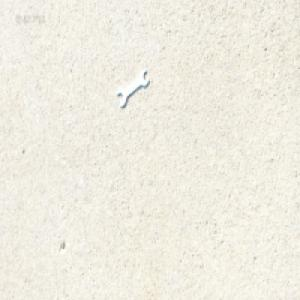Wrench: (117, 68, 150, 107)
